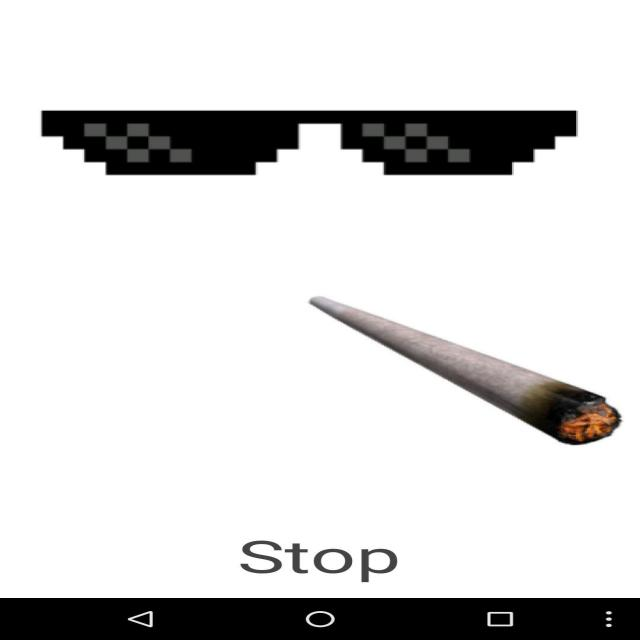image: (251, 281, 640, 475), (0, 82, 623, 201)
text: (191, 534, 451, 592)
